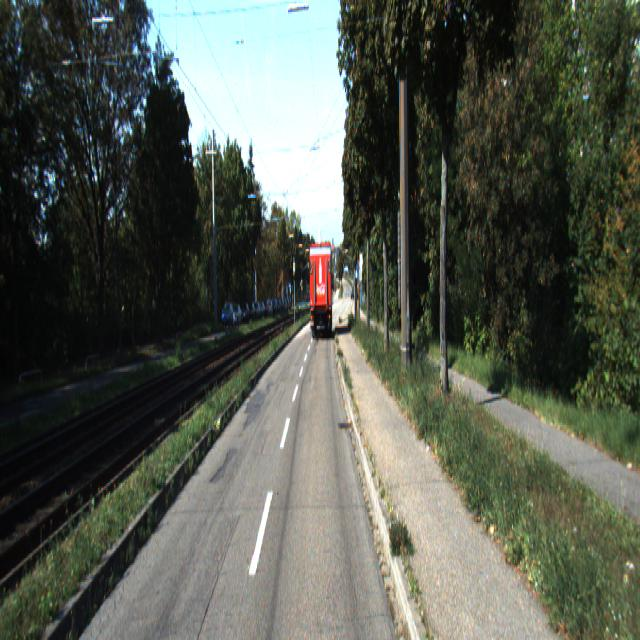Car: (308, 242, 334, 342), (220, 302, 234, 329)
